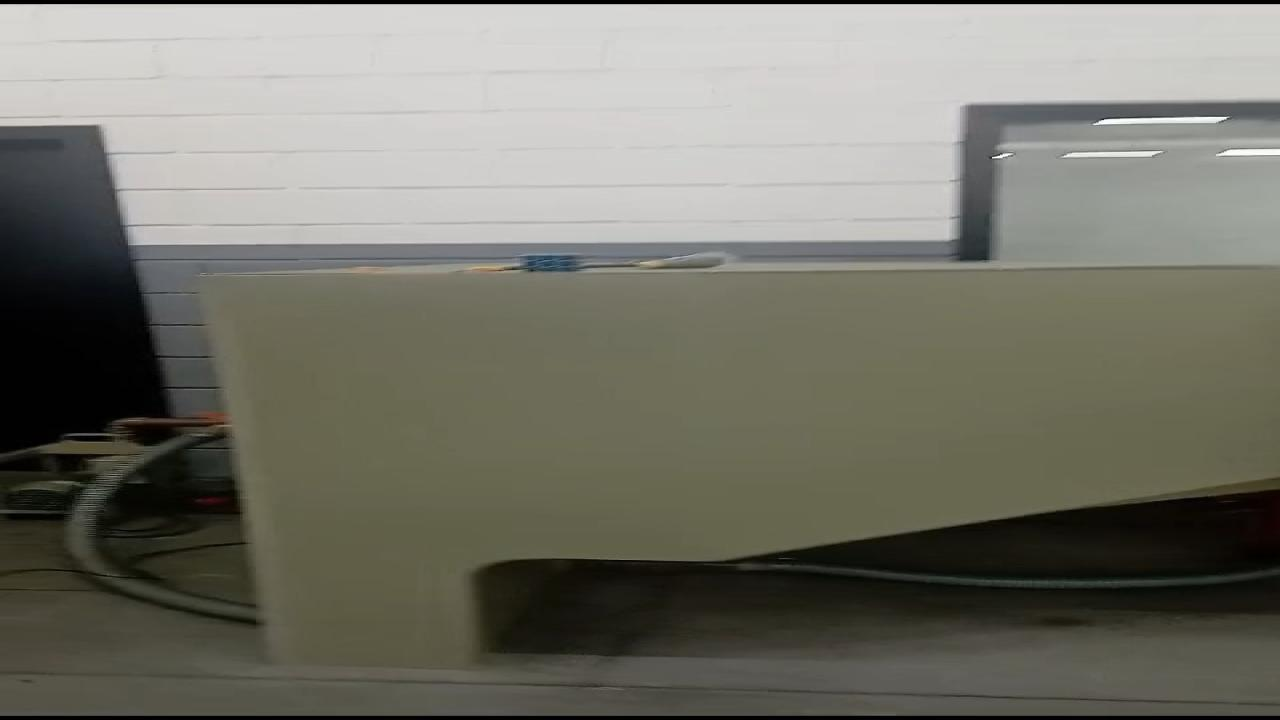Cube: (510, 253, 583, 275)
